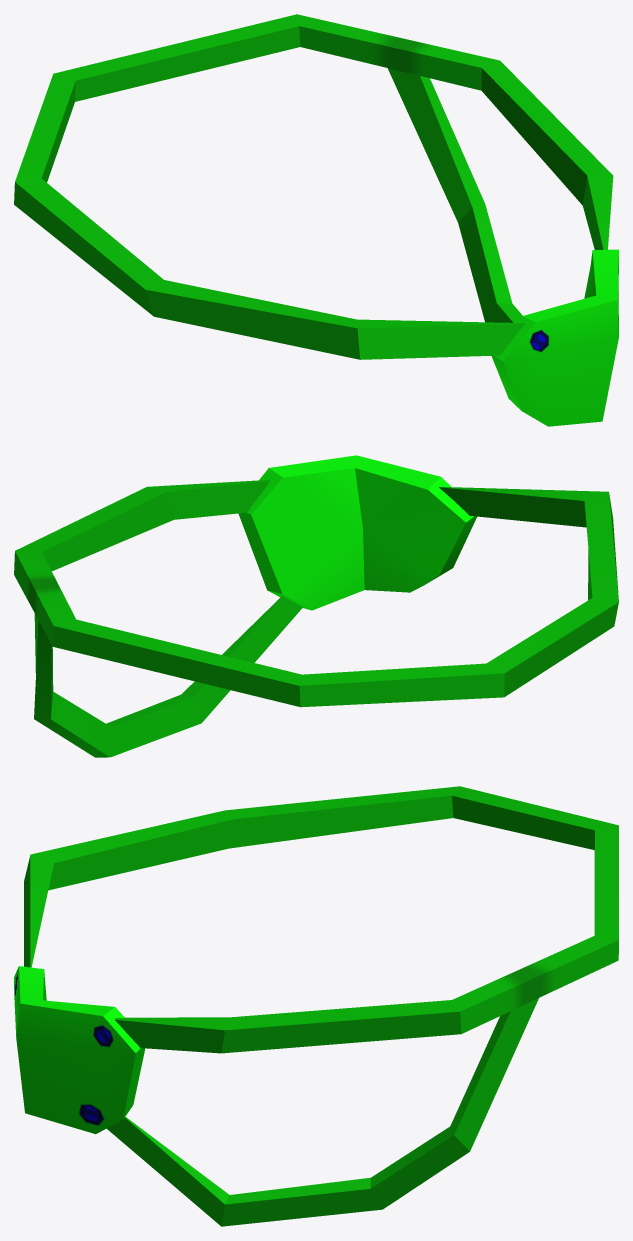
The model's file is Eyepatch_L.fbx.
3 views of the same model, one above another, from view 1: azimuth 30°, elevation 25°; view 2: azimuth 150°, elevation 25°; view 3: azimuth 270°, elevation 25° (orthographic). The views are drawn at different scales.
Parts seen in each view (by area): view 1: Eyepatch_L; view 2: Eyepatch_L; view 3: Eyepatch_L.
Boxes of the visible parts, x1,y1,x2,y2 form: Eyepatch_L: (14,14,618,426); Eyepatch_L: (14,455,618,757); Eyepatch_L: (14,786,618,1226).
Bounding box in the file's own units: 23.95 × 12.37 × 26.81.
